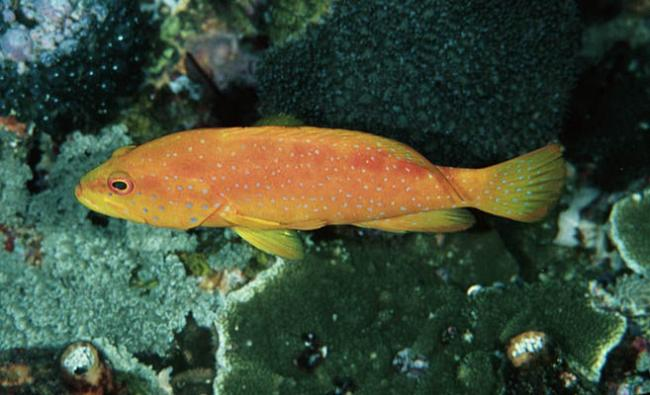fish: (75, 125, 567, 259)
